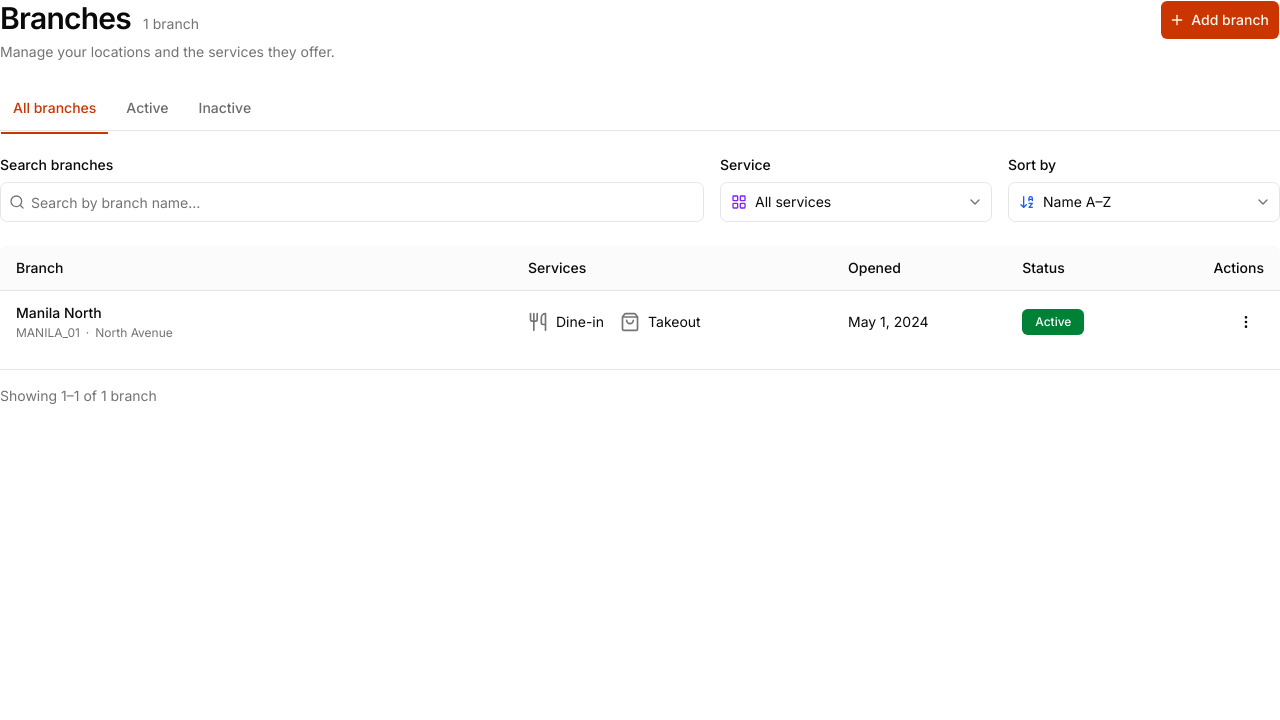
Scenario: branch management › creates a branch with its dine-in setting
Later steps or results of the test are not shown.
What coordinates should you click on to do the following:
click the button "Add branch"
I would click on:
 (1220, 20)
Its box is [1160, 0, 1279, 40].
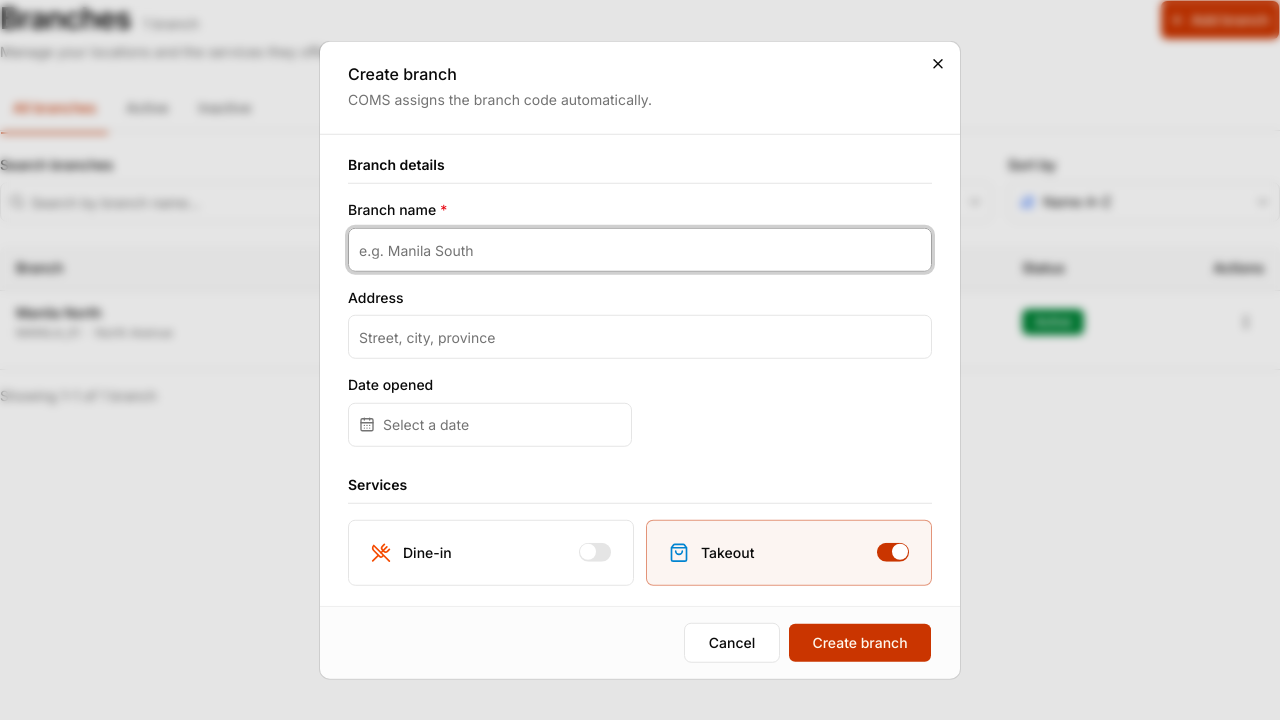
Now the text "COMS assigns the branch code automatically." is shown, box [348, 91, 652, 108]
